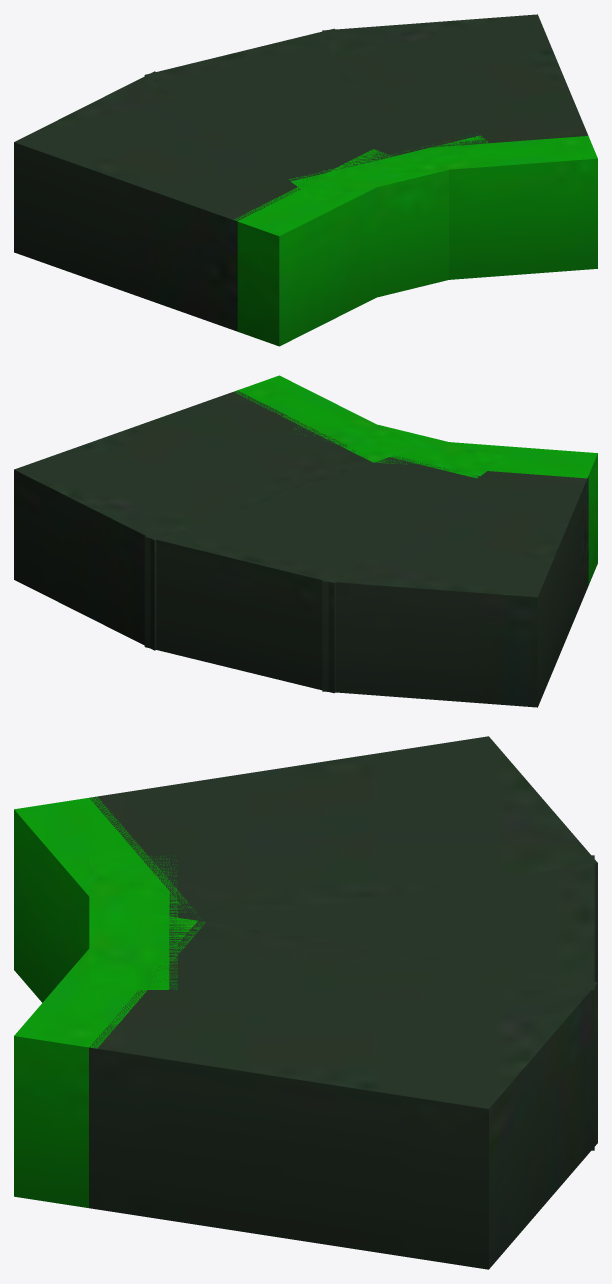
The model's file is uranium-rounds-magazine.glb.
The picture shows the model from 3 angles, top to bottom: view 1: azimuth 30°, elevation 25°; view 2: azimuth 150°, elevation 25°; view 3: azimuth 270°, elevation 25°; orthographic projection. The views are drawn at different scales.
Visible parts, largest first — view 1: uranium-rounds-magazine; view 2: uranium-rounds-magazine; view 3: uranium-rounds-magazine.
Boxes of the visible parts, x1,y1,x2,y2 form: uranium-rounds-magazine: [14, 14, 597, 346]; uranium-rounds-magazine: [14, 375, 597, 707]; uranium-rounds-magazine: [14, 736, 597, 1269].
Bounding box in the file's own units: 0.2487 × 0.05 × 0.1647.
Materials: 1 (1 with a texture image).
